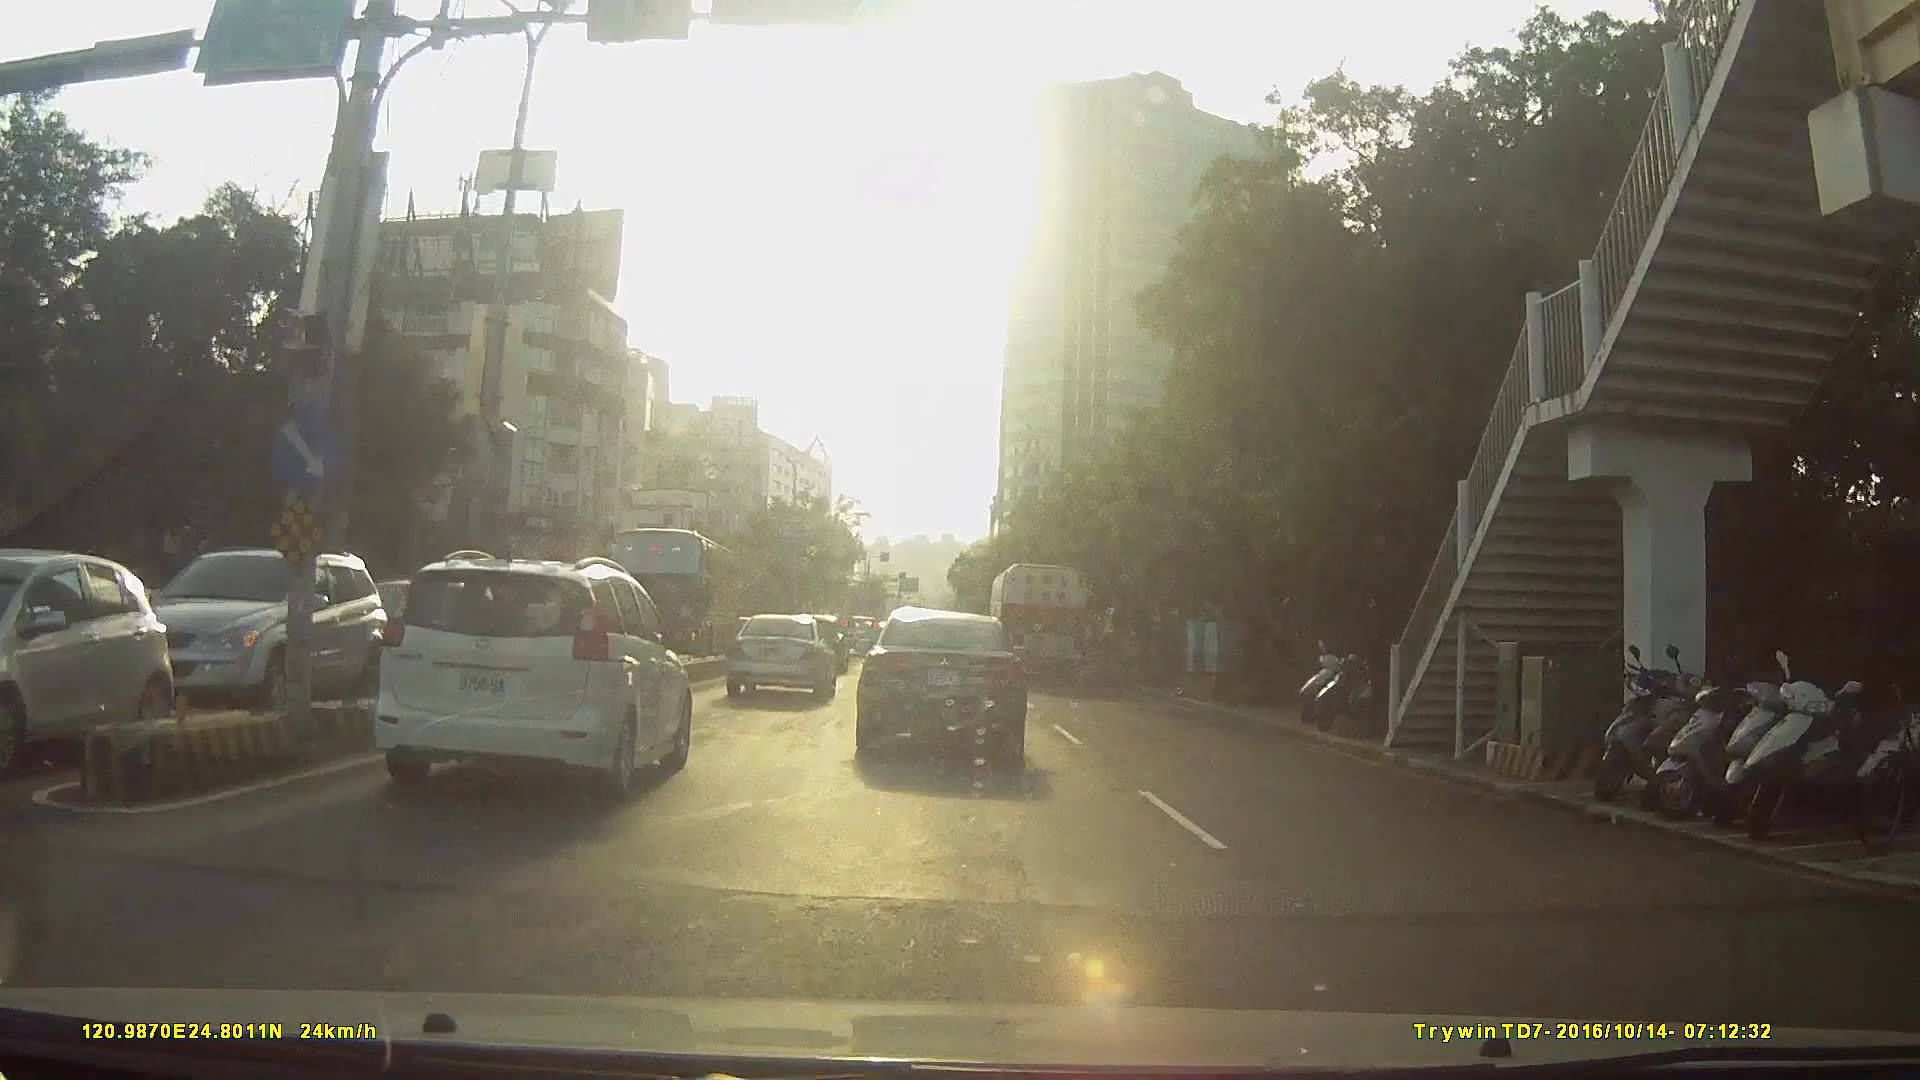vehicle: (251, 556, 684, 868), (375, 549, 694, 800), (109, 535, 411, 727), (855, 601, 1029, 770), (0, 549, 125, 762), (599, 524, 738, 662), (986, 560, 1092, 688), (727, 615, 836, 705), (837, 615, 884, 657)
